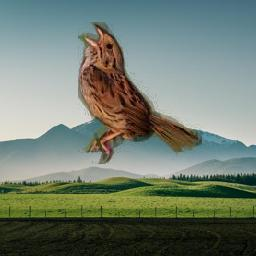Sparrow: (78, 22, 202, 164)
